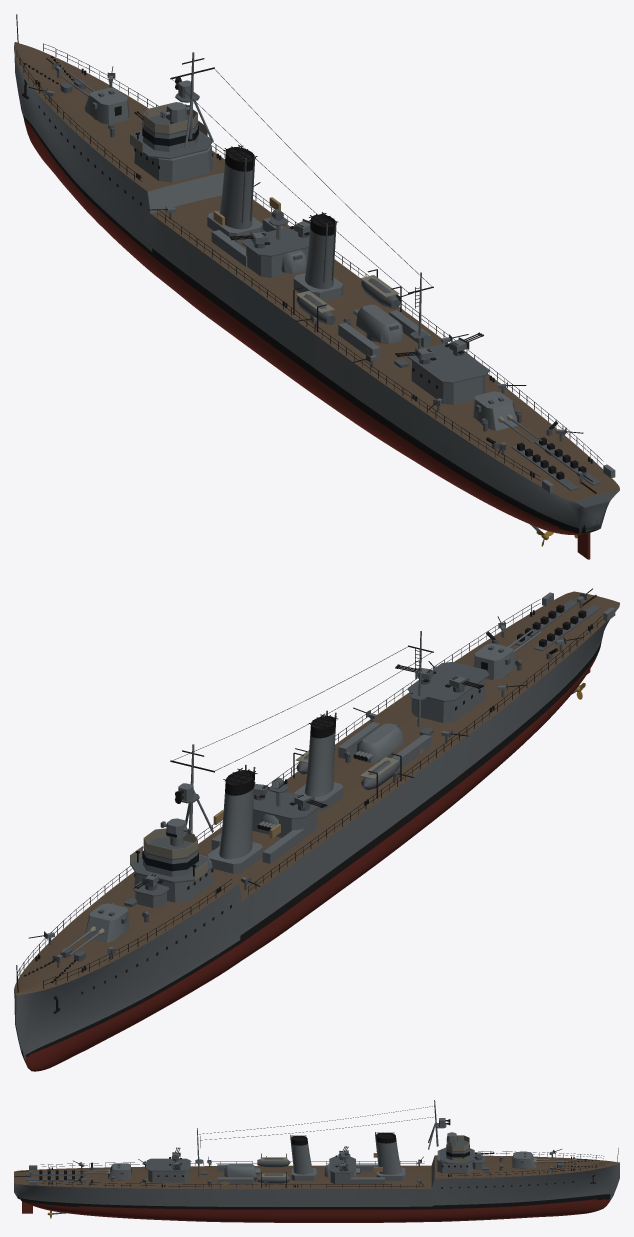
The model's file is kagero.glb.
The picture shows the model from 3 angles, top to bottom: view 1: azimuth 30°, elevation 25°; view 2: azimuth 150°, elevation 25°; view 3: azimuth 270°, elevation 25°; orthographic projection. The views are drawn at different scales.
Visible parts, largest first — view 1: LOD0; view 2: LOD0; view 3: LOD0.
Part boxes in pixels (<box>): LOD0: <box>14,14,619,559</box>; LOD0: <box>14,588,619,1071</box>; LOD0: <box>14,1100,619,1222</box>.
Size of what is drawn, in the model's own units: 13.99 by 24.77 by 118.
